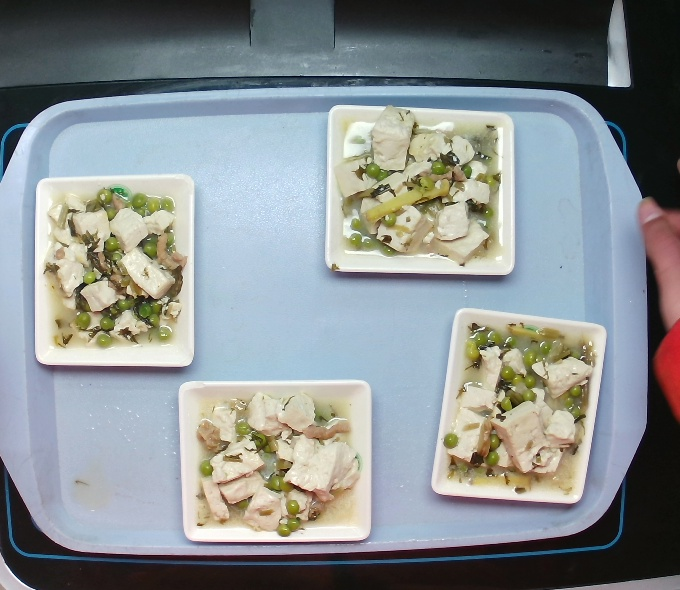wcq-CanDouDouFu: (441, 314, 594, 506), (38, 169, 185, 359), (341, 113, 506, 269), (198, 388, 364, 535)
